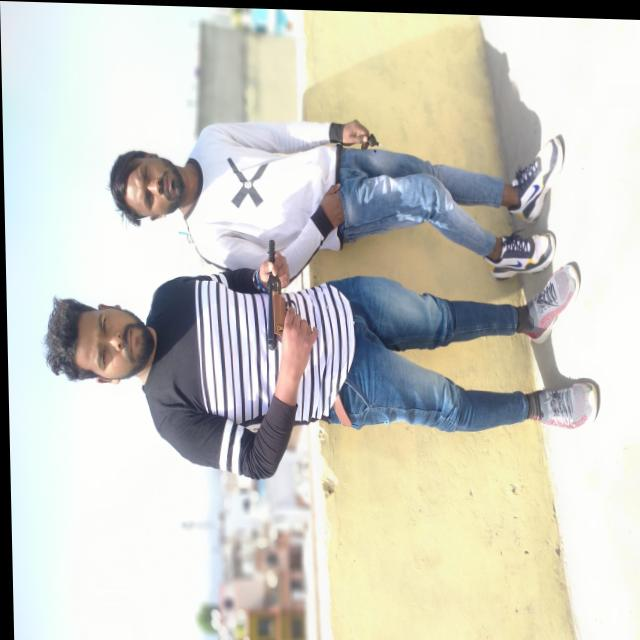handgun: (257, 234, 299, 355)
